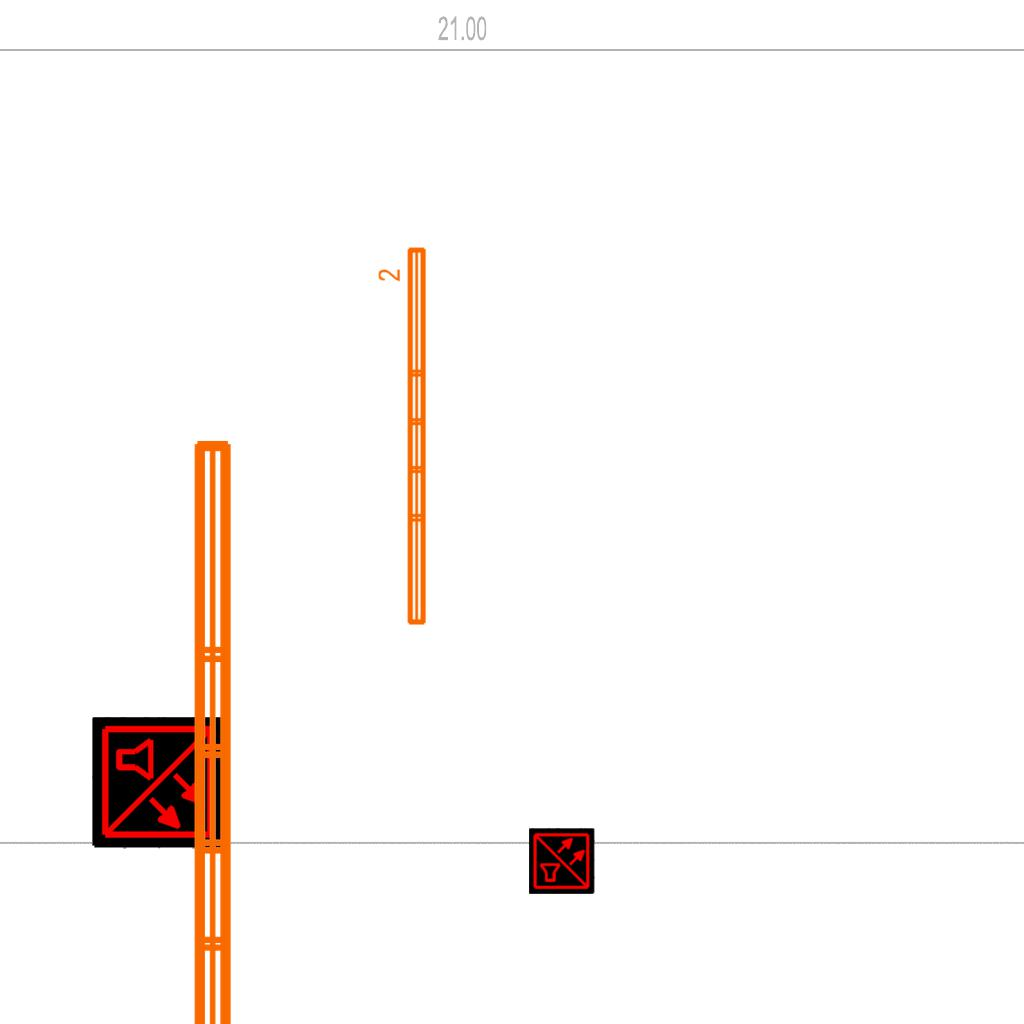Ambulanz_Pendelleuchte_LED: (182, 430, 294, 1024), (376, 243, 432, 630)
OKW_Multisensormelder_(Kombination_optischer_Rauch-Kahlenmonoxid_Waerme-Melder): (92, 717, 224, 849), (529, 828, 595, 894)
